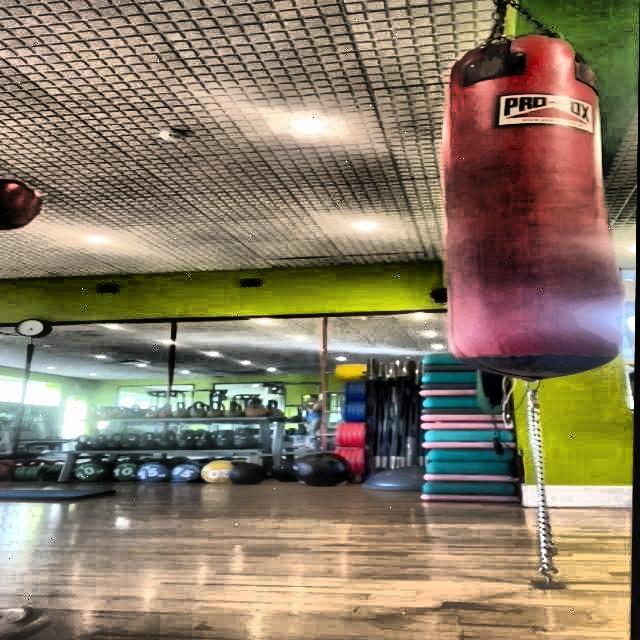boxing-bag: (448, 0, 630, 382)
